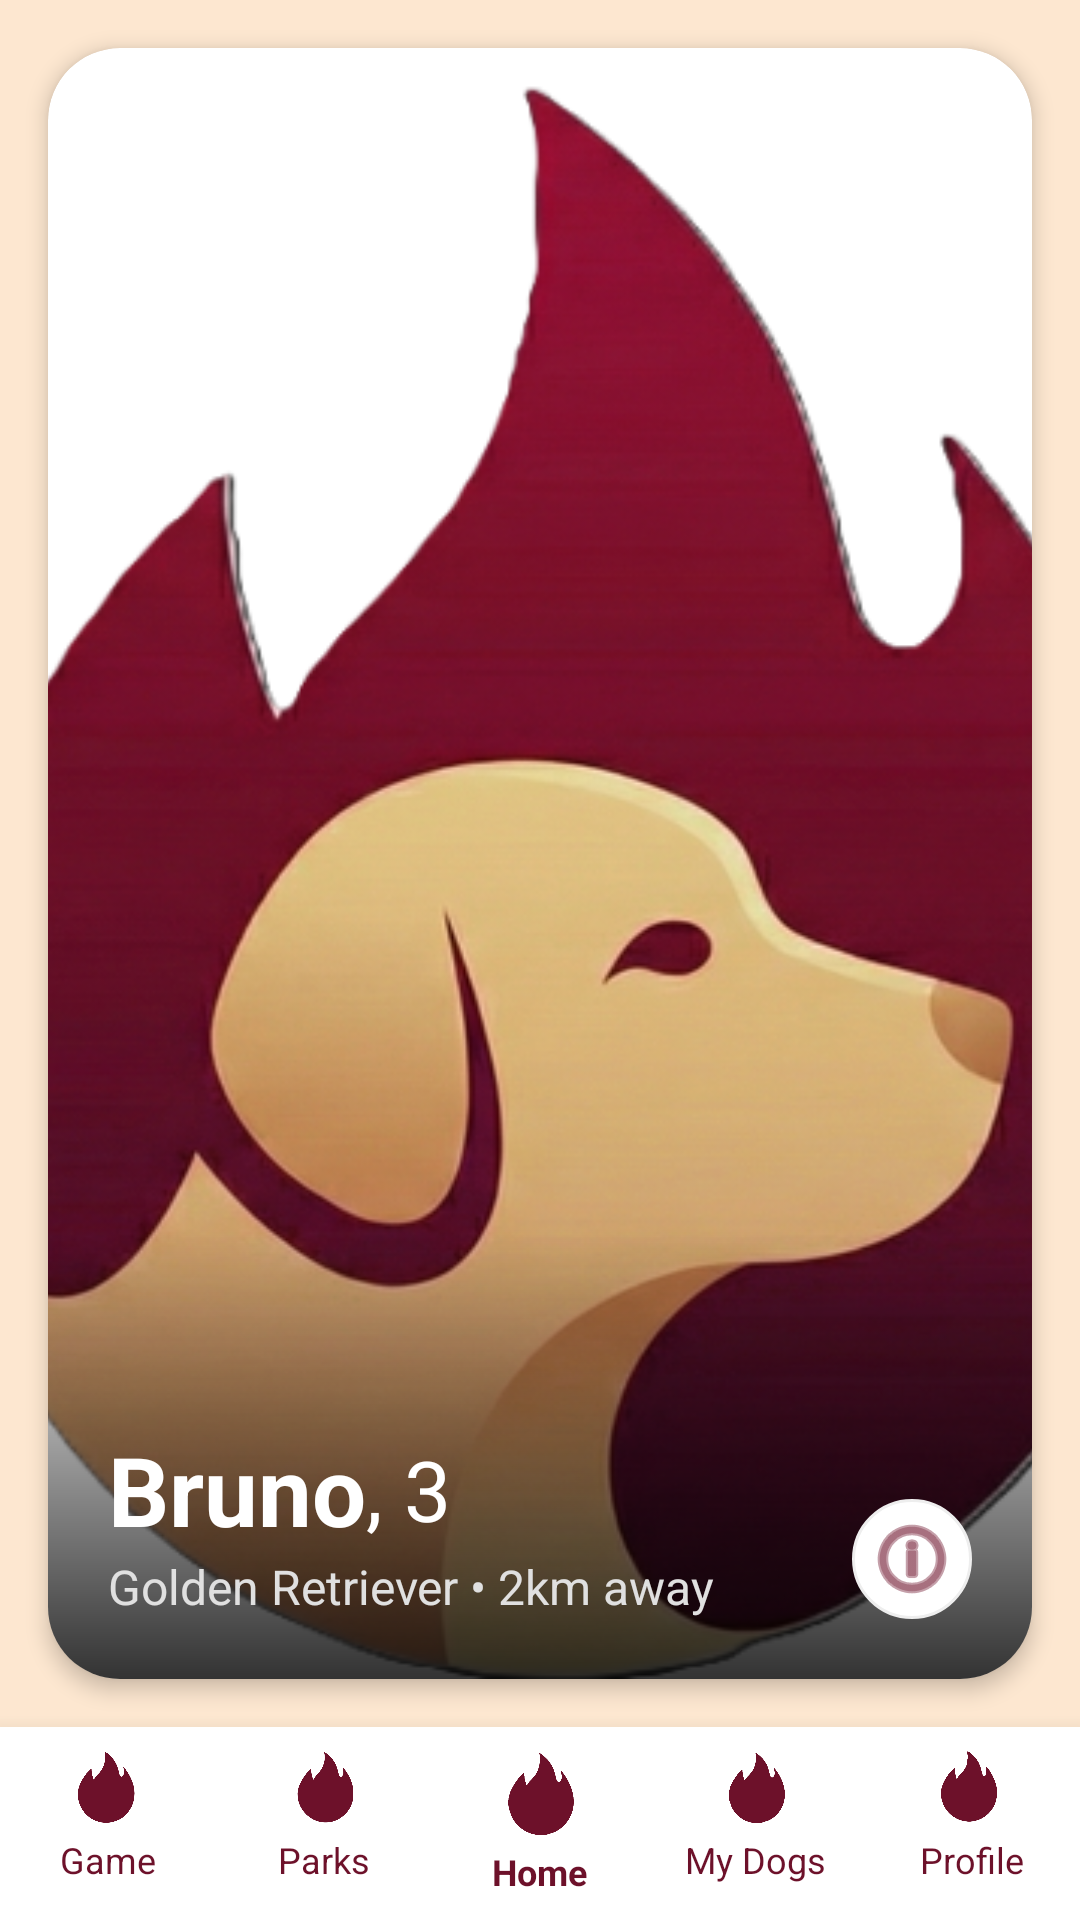

Where to tap for icons on this 1080px x 1920px app screen, as (x,y):
info details: (912,1559)
